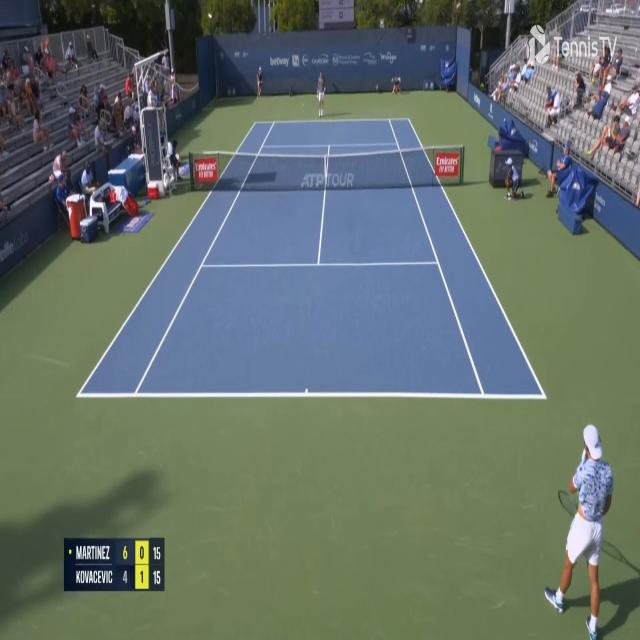tennis-player: (546, 414, 615, 630), (315, 70, 326, 120)
